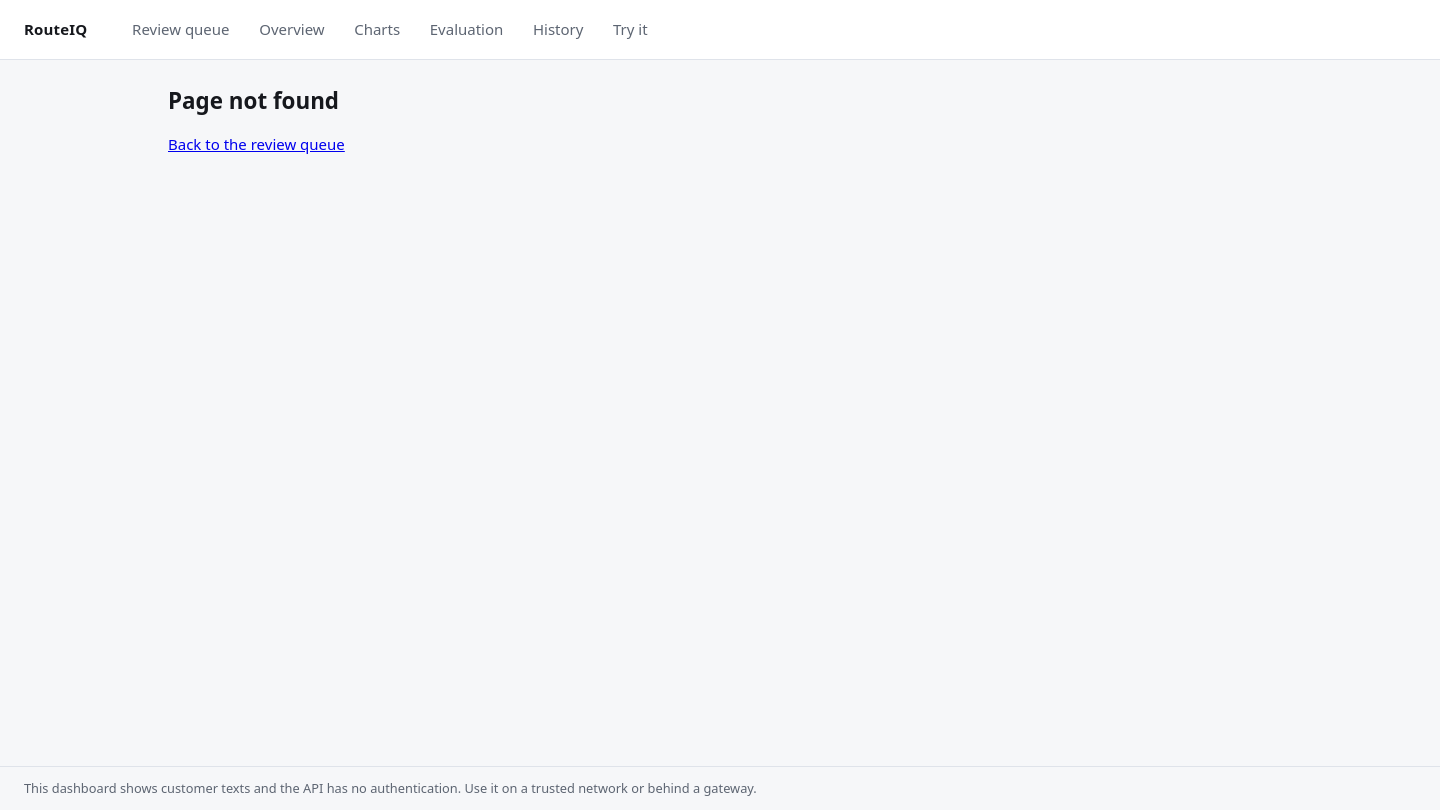
Test: routing › shows a not-found page with a way back
Expected: the heading "Page not found" is shown, x1=168 y1=85 x2=339 y2=116
Click the link "Back to the review queue": x=256, y=144 x1=168 y1=134 x2=345 y2=154
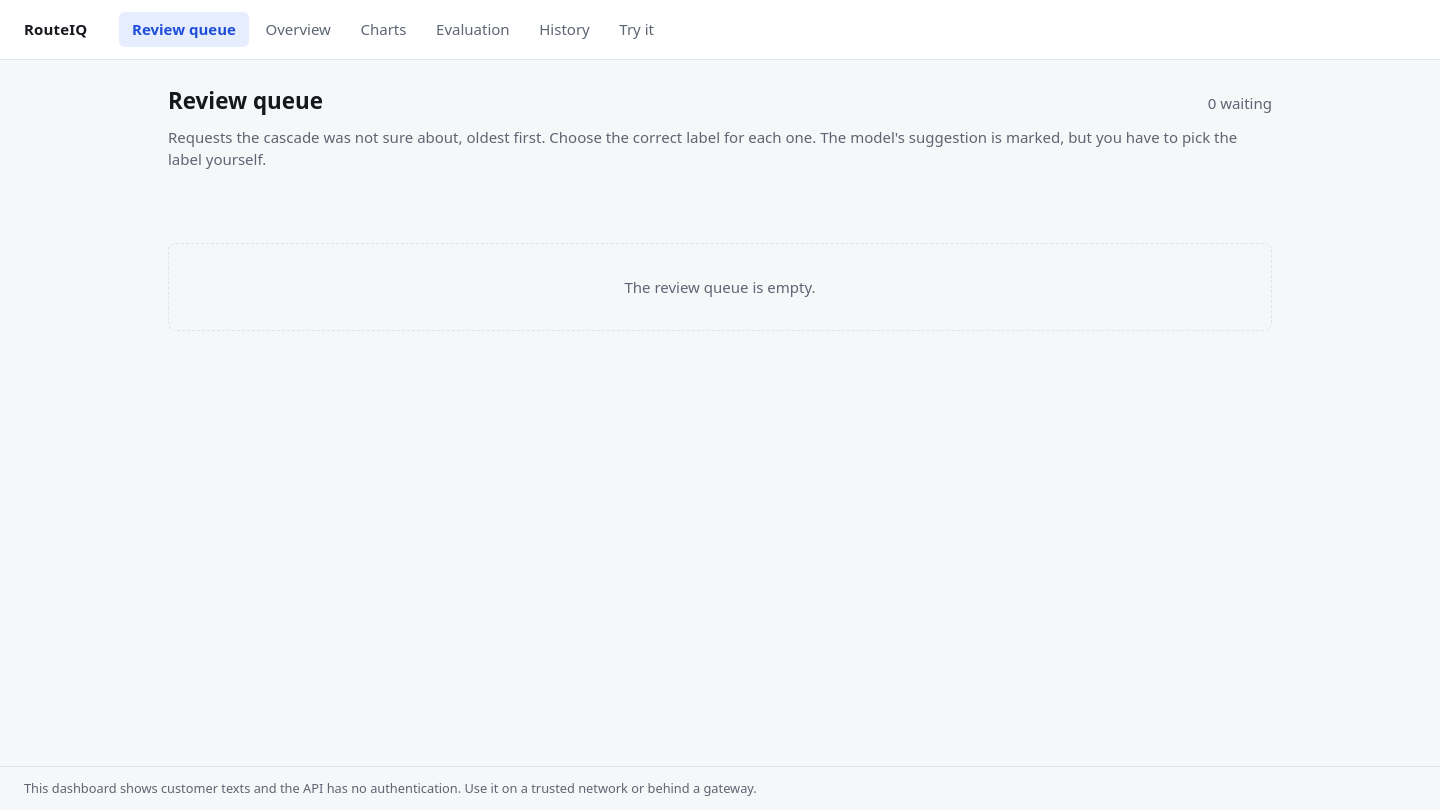
Result: the heading "Review queue" is shown at x1=168 y1=84 x2=323 y2=118
